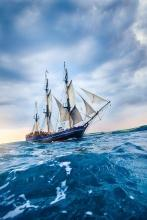fanchuan: (24, 60, 109, 145)
